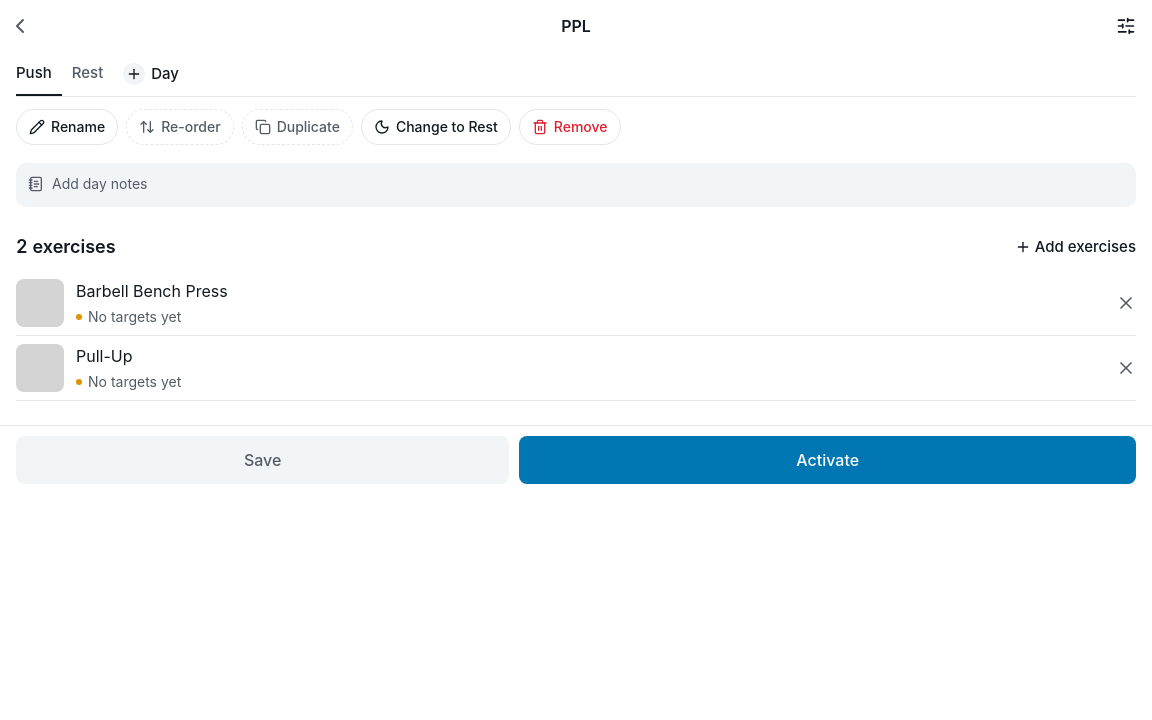
Test: ProgramEditorPage - day actions and exercises › Cancel on the Change to Rest confirm keeps the exercises
Expected: the element showing "Push Rest" is shown, 16,52 -> 113,96
Click the button "Change to Rest" at (436, 127), box 361,105 -> 511,149
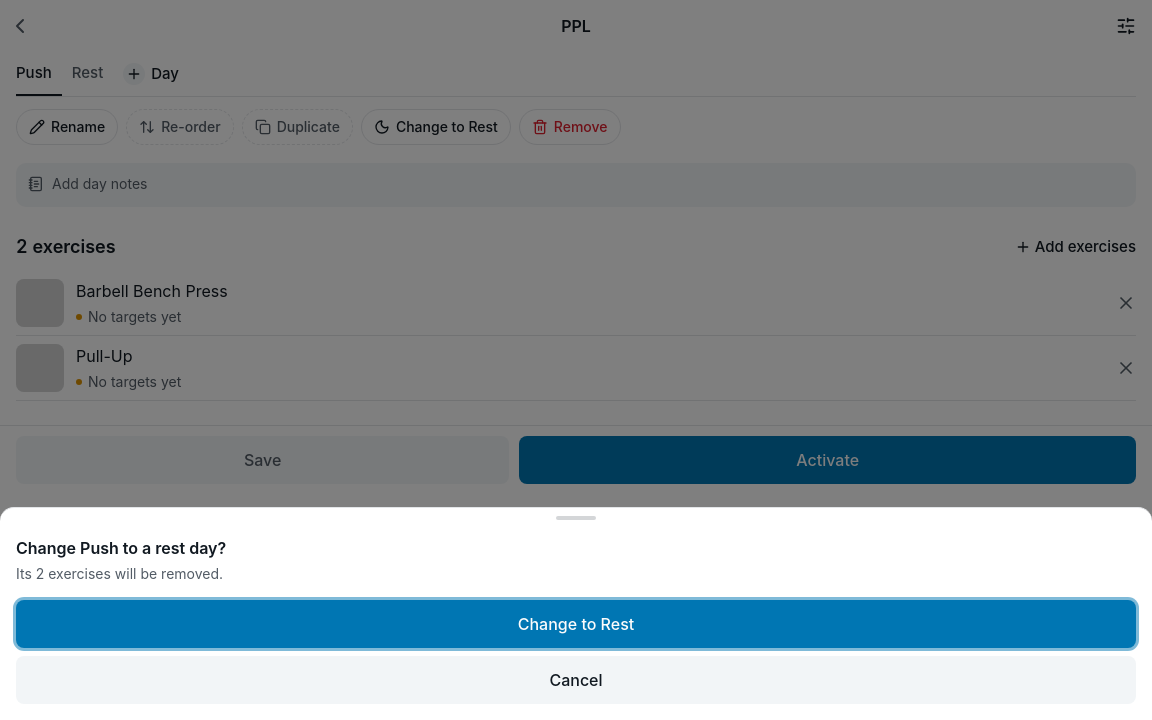
Click the button "Cancel" at (576, 680), box 16,656 -> 1136,704
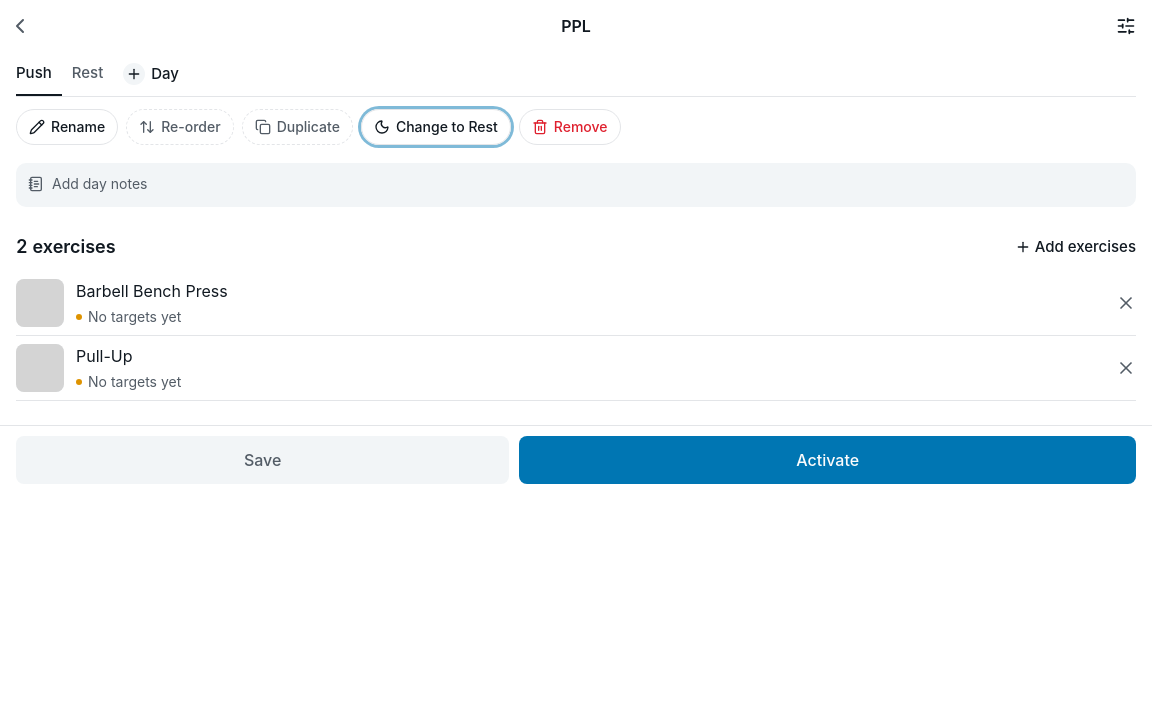
Expected: the heading "2 exercises" is shown, 16,233 -> 116,261
Expected: the dialog is gone
